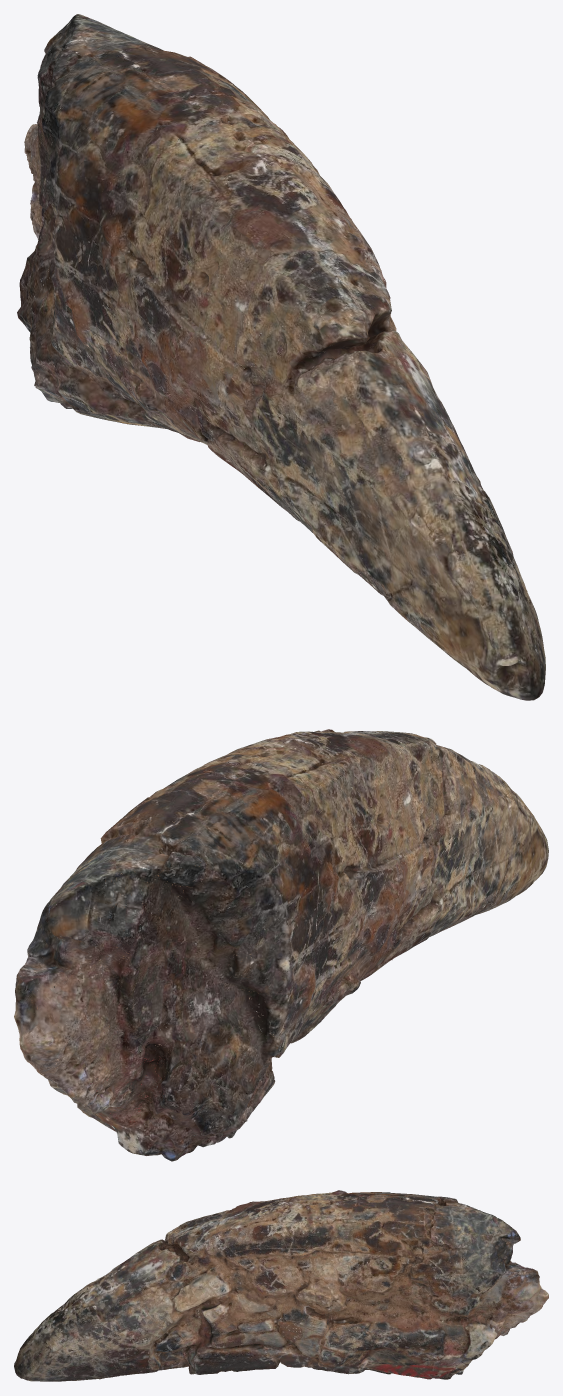
The model's file is trex_tooth.glb.
3 views of the same model, one above another, from view 1: azimuth 30°, elevation 25°; view 2: azimuth 150°, elevation 25°; view 3: azimuth 270°, elevation 25° (orthographic). The views are drawn at different scales.
Visible parts, largest first — view 1: Object_2, Object_3, Object_4, Object_5; view 2: Object_2, Object_3, Object_4, Object_5; view 3: Object_3, Object_2, Object_4, Object_5.
Boxes of the visible parts, box(x1,y1,x2,y2) form: Object_2: box(49, 57, 545, 700); Object_3: box(40, 14, 543, 700); Object_4: box(17, 15, 287, 428); Object_5: box(24, 23, 540, 632); Object_2: box(119, 729, 548, 1149); Object_3: box(15, 732, 538, 1074); Object_4: box(14, 759, 338, 1161); Object_5: box(22, 729, 471, 1137); Object_3: box(17, 1193, 536, 1381); Object_2: box(14, 1190, 412, 1381); Object_4: box(312, 1196, 548, 1379); Object_5: box(40, 1192, 545, 1373).
Size of the model in its own units: 0.0237 by 0.0384 by 0.1028.
Materials: 1 (1 with a texture image).
